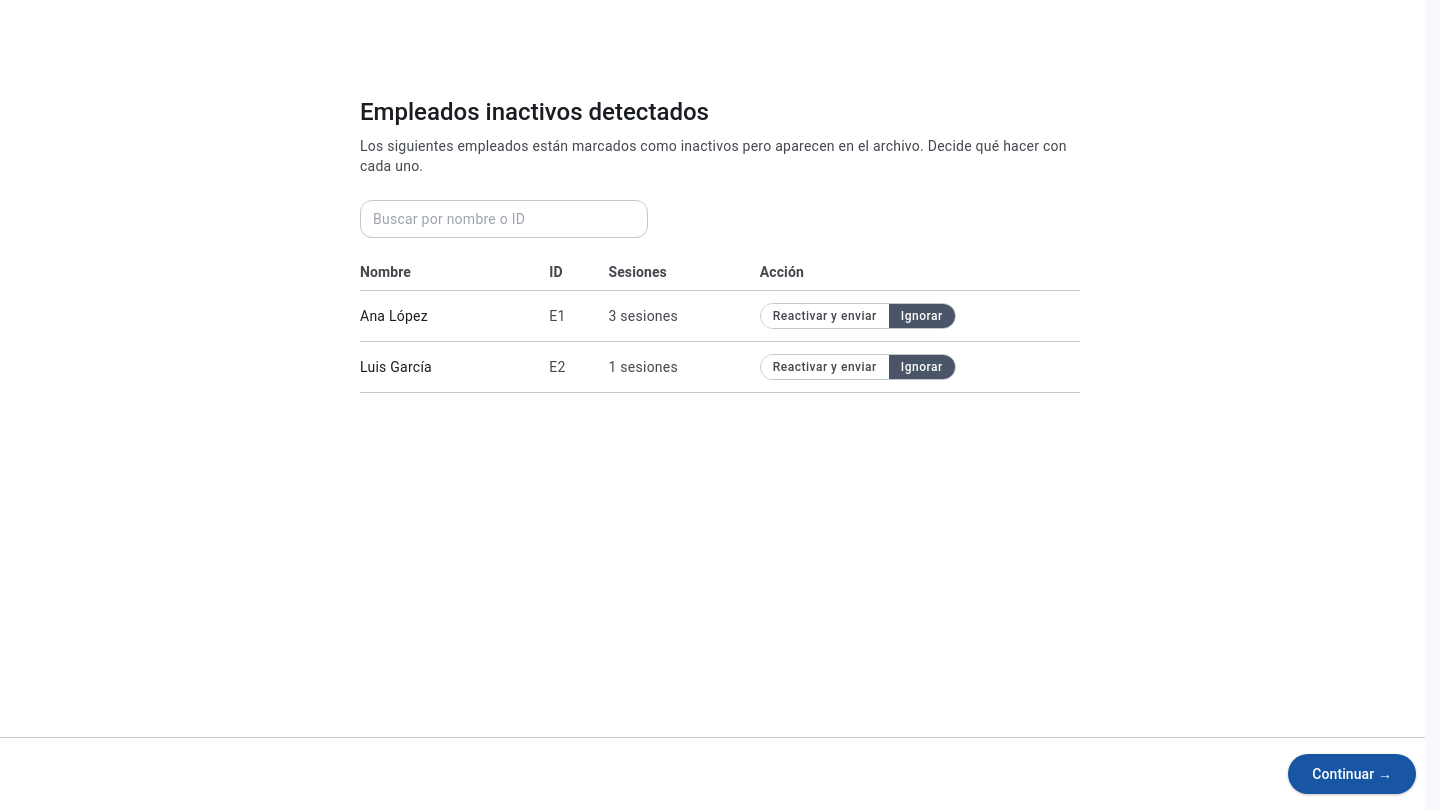
ReactivationReviewScreen search filter › filters rows by employee name
The image size is (1440, 810).
Type "ana" into the field named "buscar empleado" at {"x": 504, "y": 219}, box [360,200,648,238]
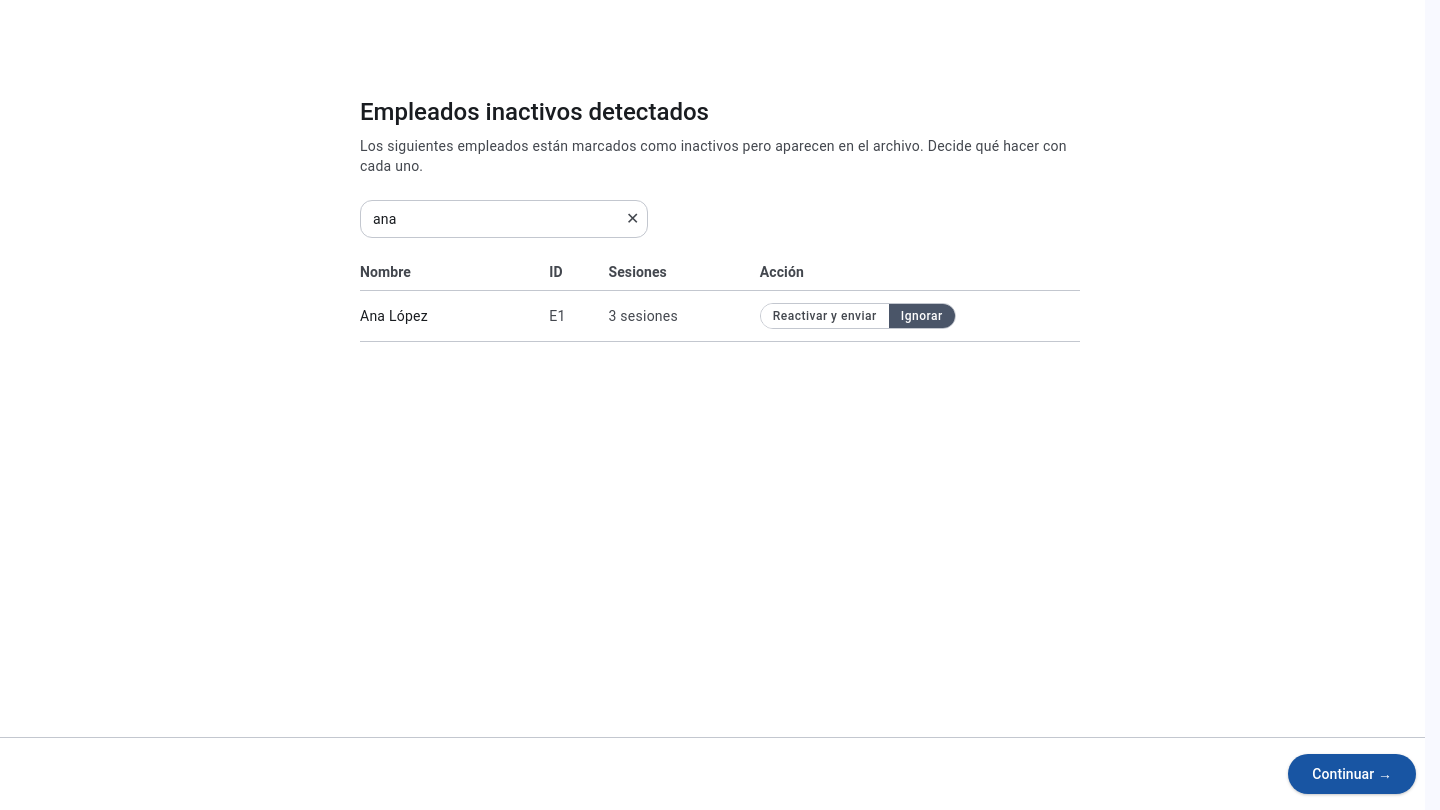
Expected: the text "Ana López" is shown, [360,290,549,342]
Expected: the text "Luis García" is gone
